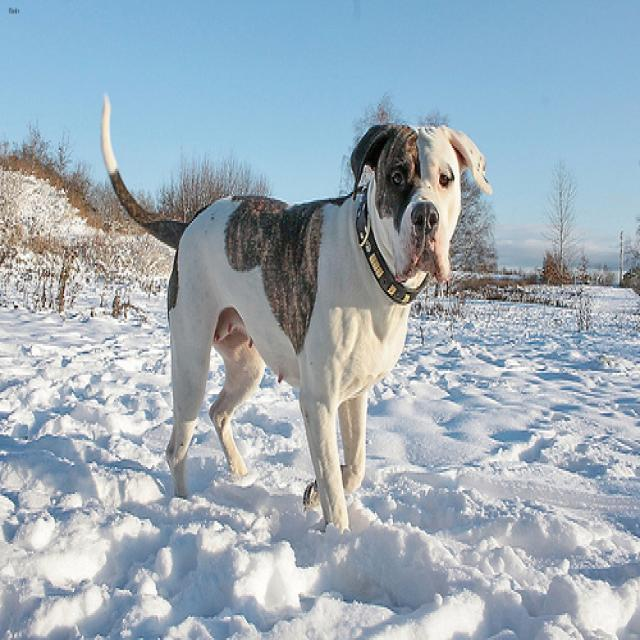dog-american_bulldog: (96, 83, 500, 548)
